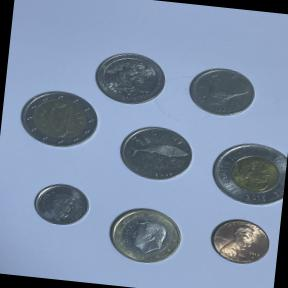coin: (101, 200, 194, 274), (203, 136, 288, 212), (16, 86, 103, 155), (114, 120, 198, 188), (90, 46, 170, 109), (199, 211, 276, 272), (27, 176, 96, 233)
